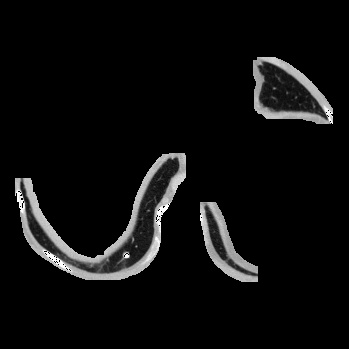PN: (122, 251, 130, 259)
